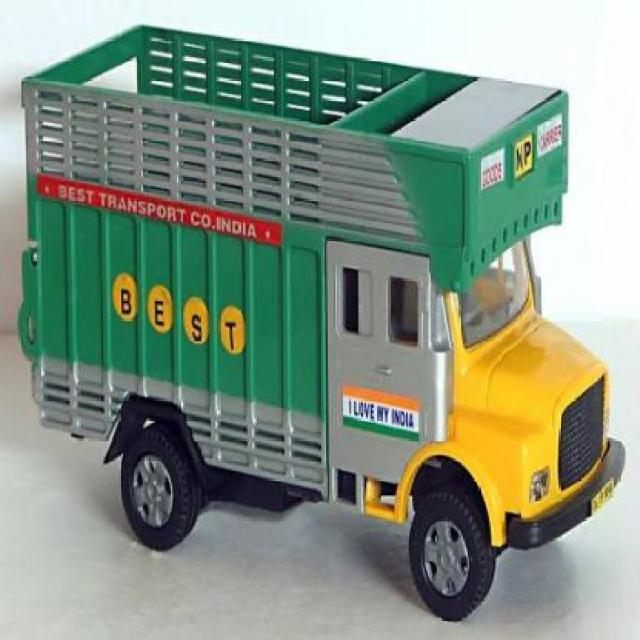vehicle: (12, 12, 631, 627)
